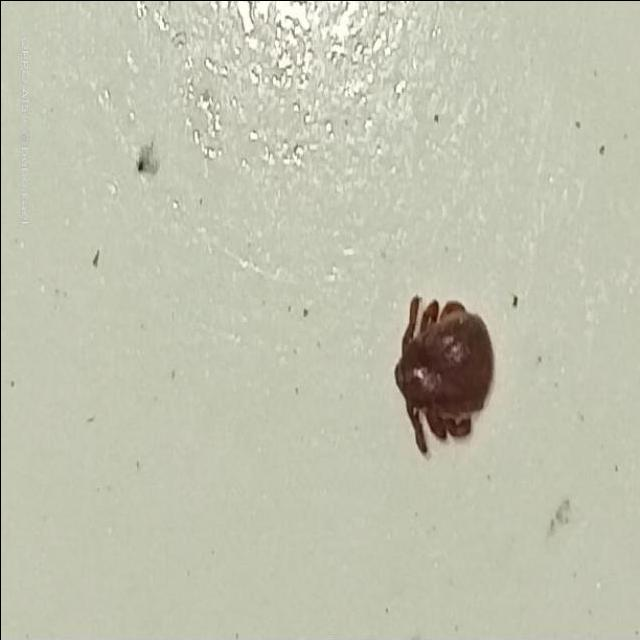Rhipicephalus Sanguineus-M: (391, 296, 494, 458)
